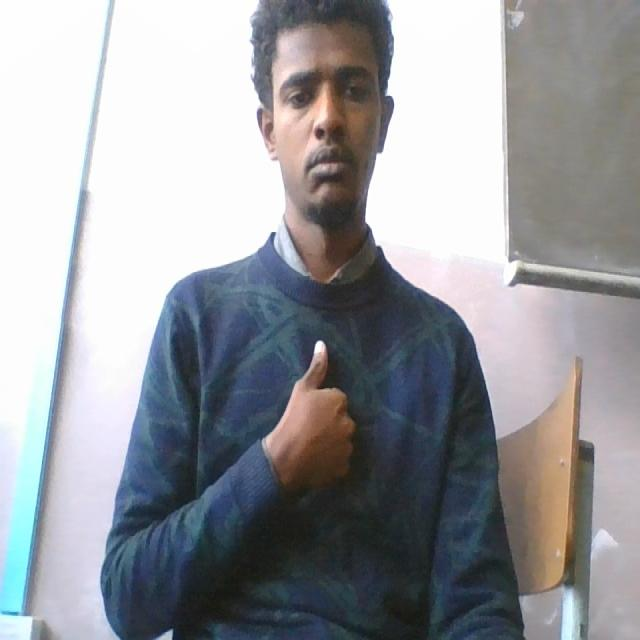yerase: (274, 328, 363, 510)
